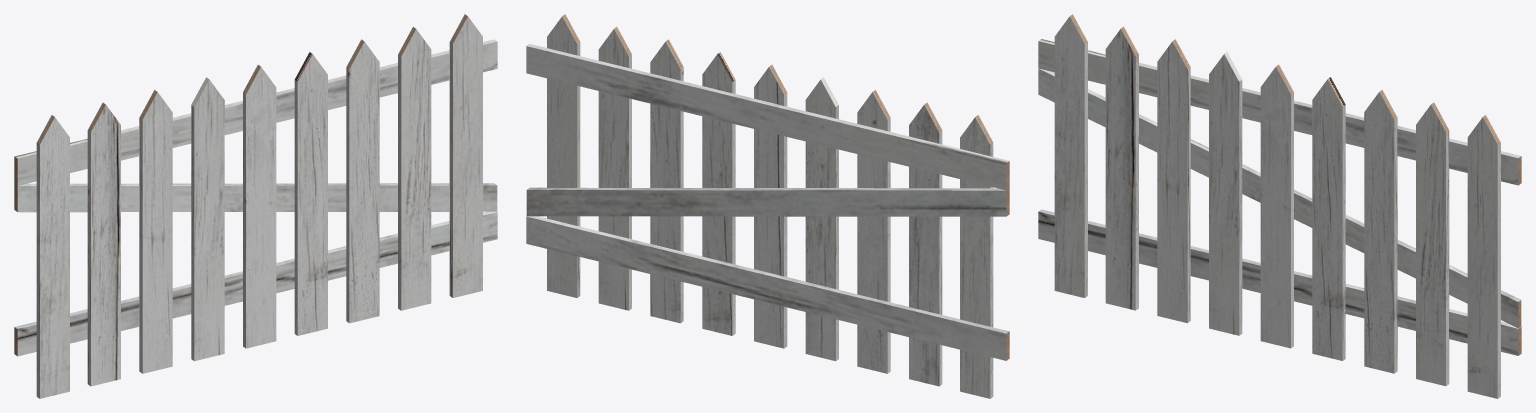
File: fence_white.glb
3 views of the same model, side by side, from view 1: azimuth 30°, elevation 25°; view 2: azimuth 150°, elevation 25°; view 3: azimuth 330°, elevation 25° (orthographic).
Parts seen in each view (by area): view 1: fence_white; view 2: fence_white; view 3: fence_white.
Part boxes in pixels (box(x1,y1,x2,y2)): fence_white: box(14, 14, 497, 398); fence_white: box(526, 14, 1009, 398); fence_white: box(1038, 14, 1521, 398).
Bounding box in the file's own units: 2 × 1.11 × 0.0449.
1 material, 1 textured.
